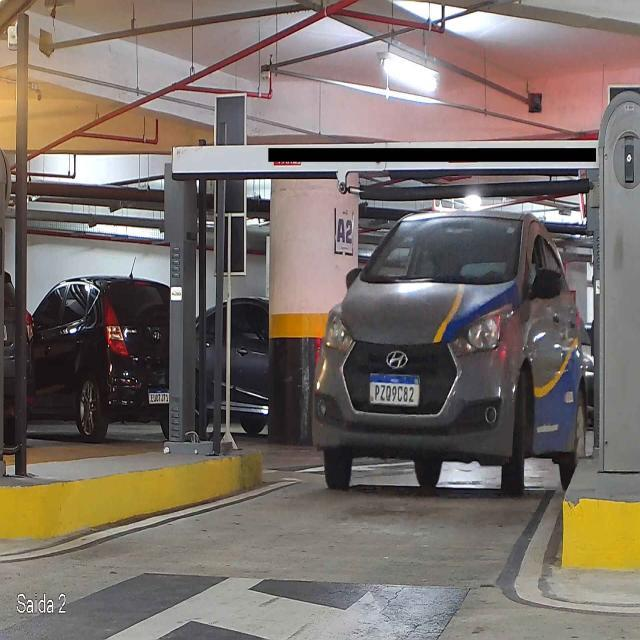mercosul_plate: (368, 372, 421, 408)
